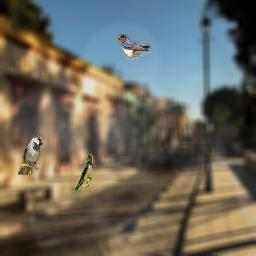Sparrow: (18, 135, 43, 175)
Swallow: (117, 34, 151, 60), (73, 154, 93, 194)
